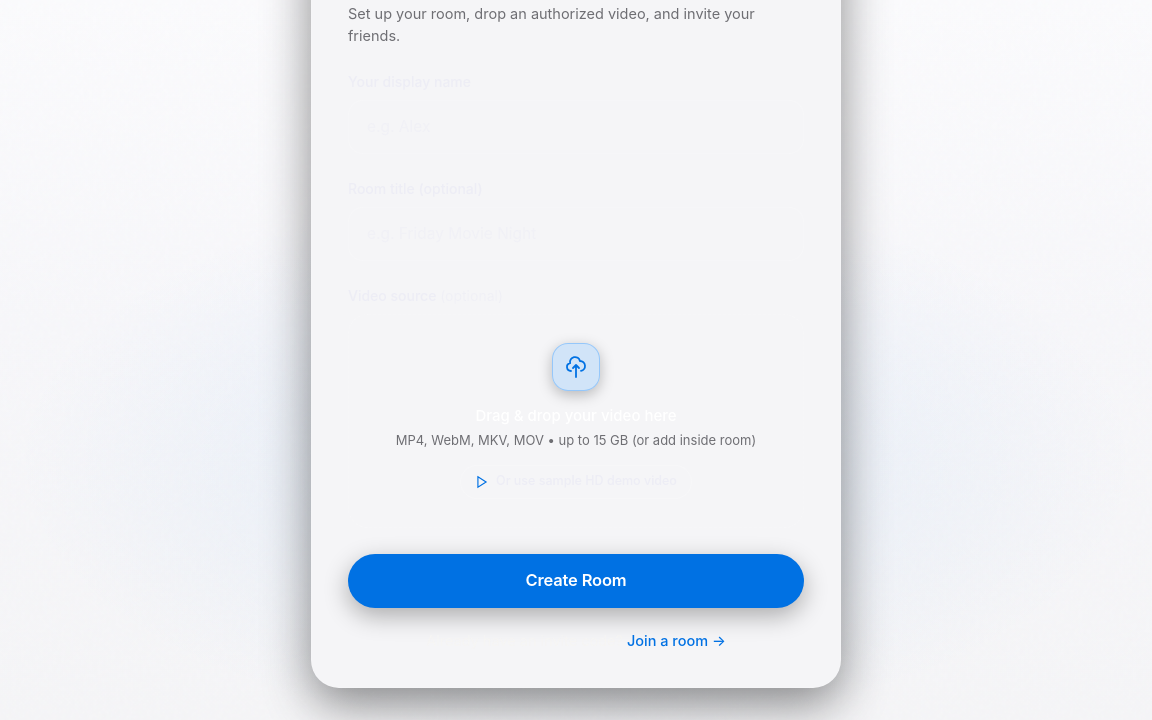
New Cineva Pages — Validation & Prefill Tests › CreateRoomPage › validates empty name on submit and allows room creation without movie
(page scrolled)
Click the button "Create Room": (576, 580) [348,554,804,608]
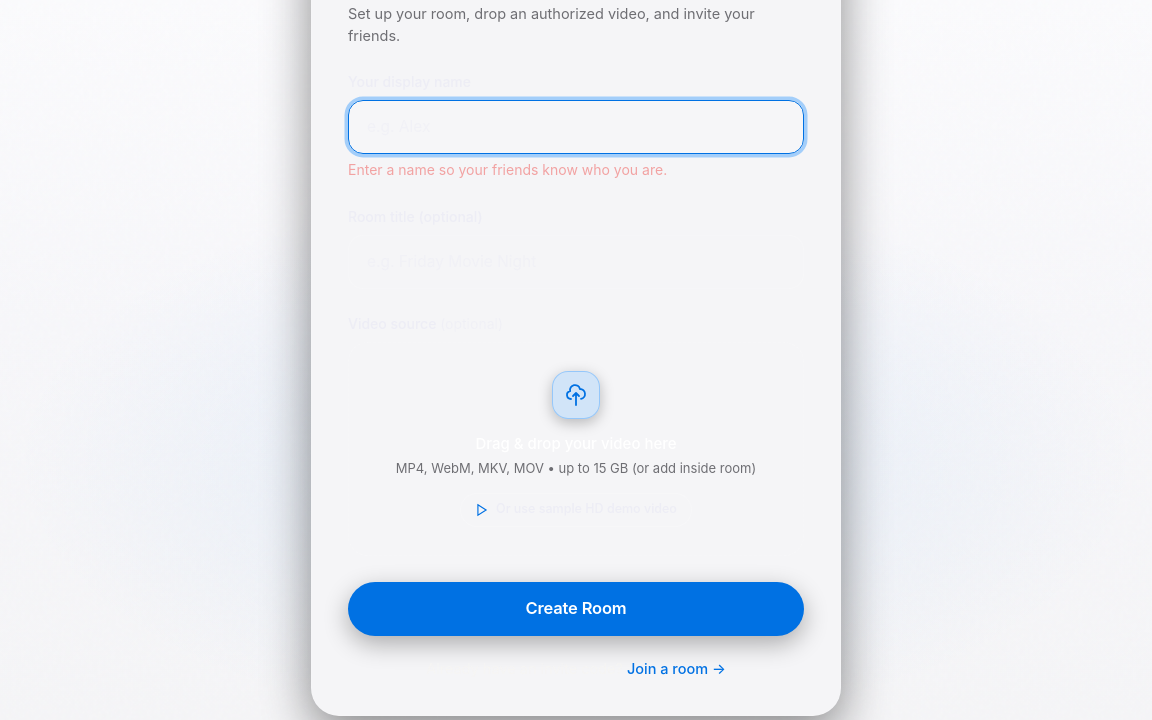
Result: the text "Enter a name so your friends know who you are." is shown at [348,160,667,178]
